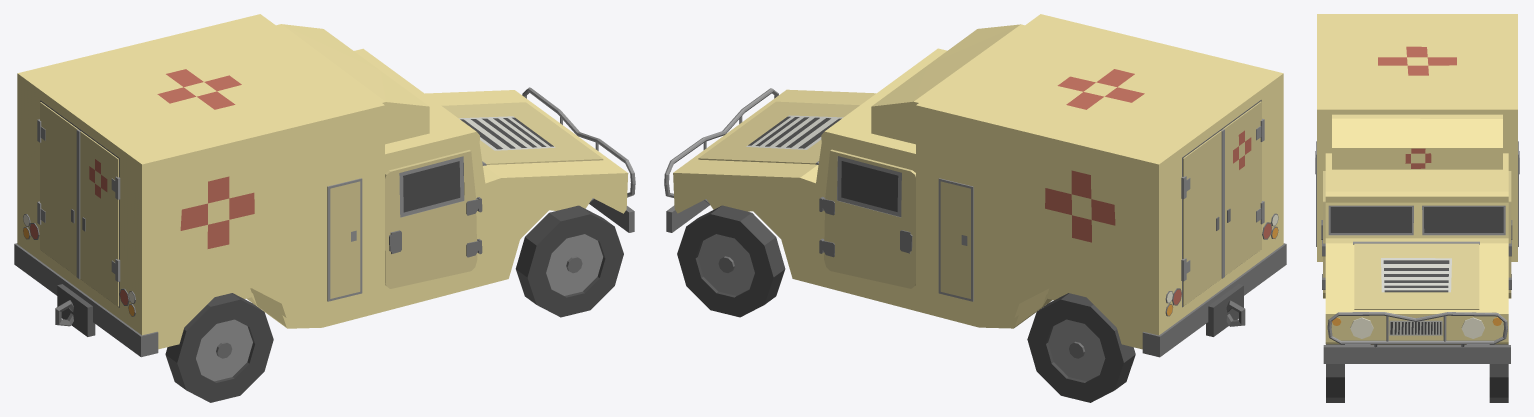
File: kar2.fbx
3 views of the same model, side by side, from view 1: azimuth 30°, elevation 25°; view 2: azimuth 150°, elevation 25°; view 3: azimuth 270°, elevation 25° (orthographic). The views are drawn at different scales.
Parts seen in each view (by area): view 1: Boole_2, Cylinder_1, Cylinder; view 2: Boole_2, Cylinder_2, Cylinder_3; view 3: Boole_2, Cylinder_2, Cylinder_1.
Boxes of the visible parts, left/top/right/bottom form: Boole_2: left=14, top=14, right=635, bottom=357; Cylinder_1: left=515, top=205, right=623, bottom=317; Cylinder: left=165, top=293, right=273, bottom=402; Boole_2: left=664, top=14, right=1286, bottom=357; Cylinder_2: left=677, top=205, right=785, bottom=317; Cylinder_3: left=1027, top=293, right=1135, bottom=402; Boole_2: left=1315, top=14, right=1519, bottom=363; Cylinder_2: left=1489, top=344, right=1508, bottom=402; Cylinder_1: left=1326, top=344, right=1344, bottom=402.
Size of the model in its own units: 589 by 279 by 246.
